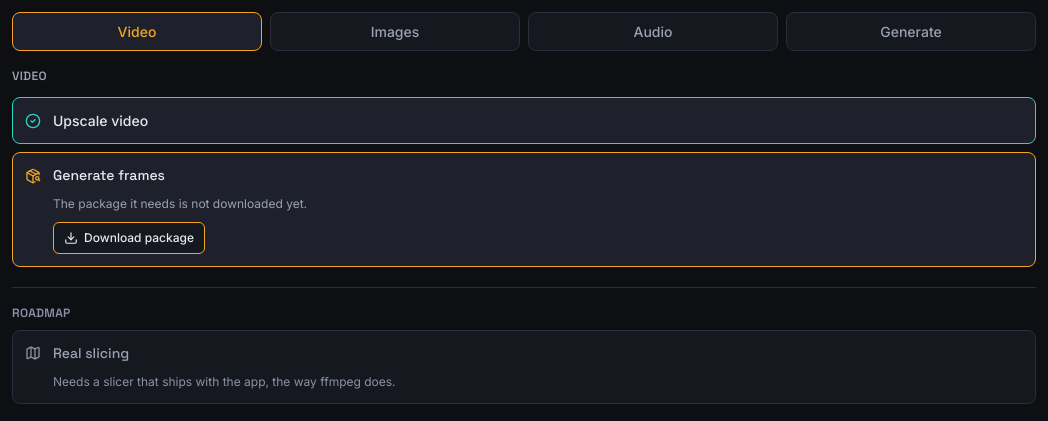
Test: CapabilityTree › shows the four domains first and switches the second-level capabilities
Expected: the button "Video" is shown, [12,12,262,51]
Expected: the button "Audio" is shown, [528,12,778,51]
Click the button "Images": point(395, 32) [270,12,520,51]
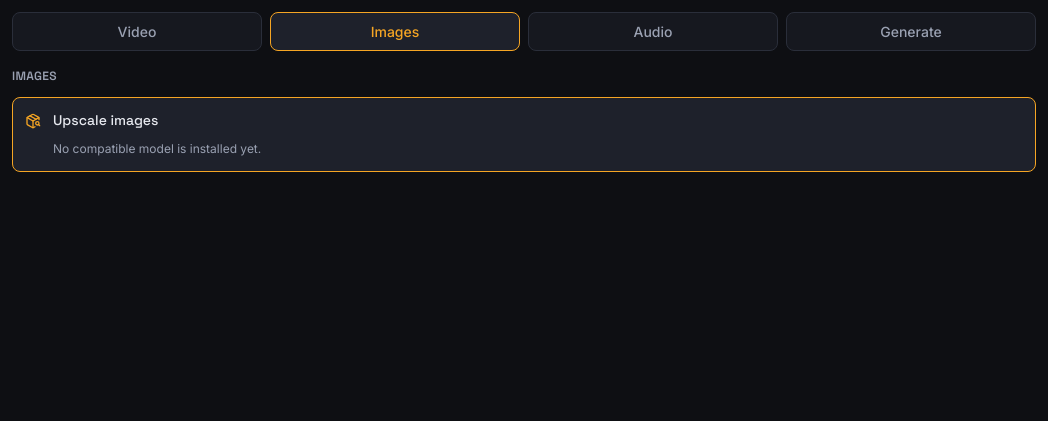
Now the heading "Upscale images" is shown, box [53,110,158,131]
Now the button "Upscale video" is gone
